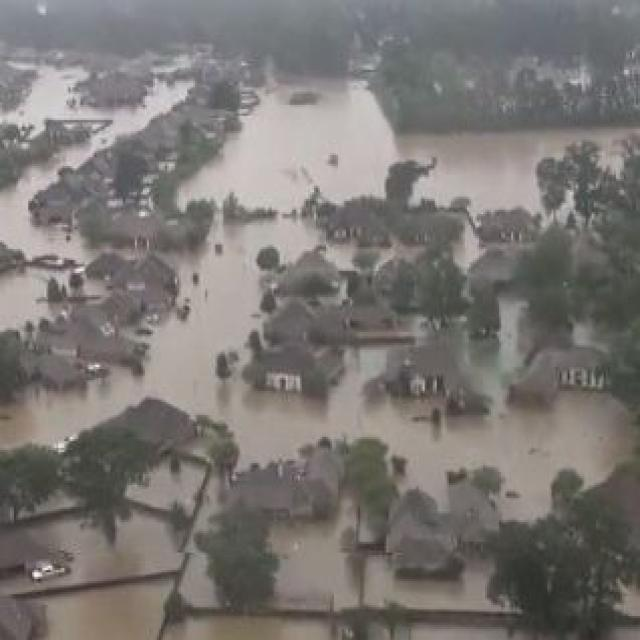flooded_areas: (8, 48, 632, 623)
